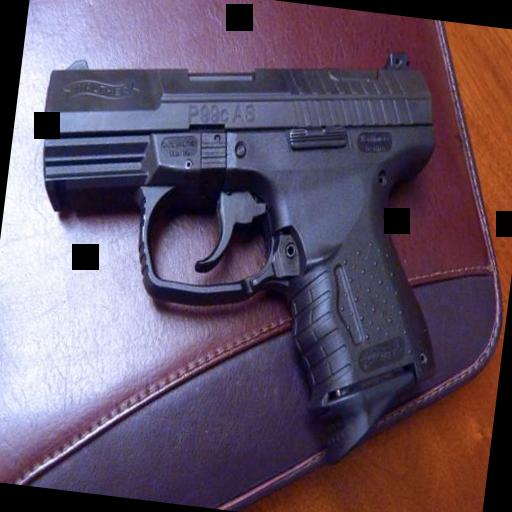Handgun: (4, 6, 473, 478)
